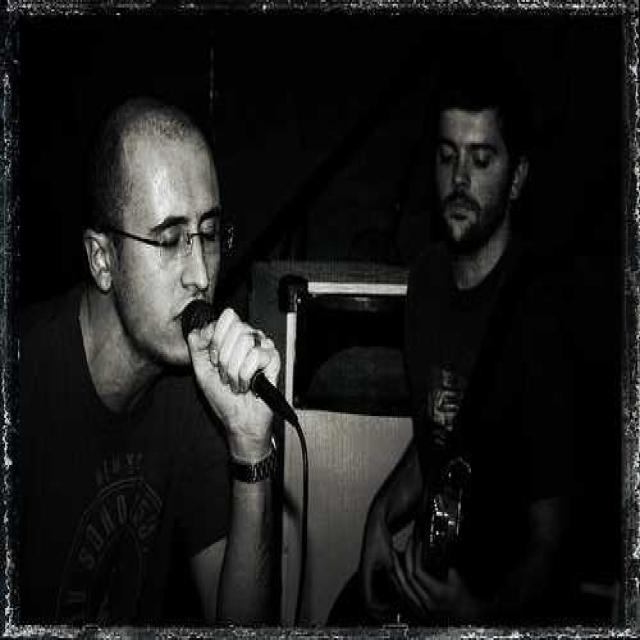microphone: (182, 299, 300, 433)
